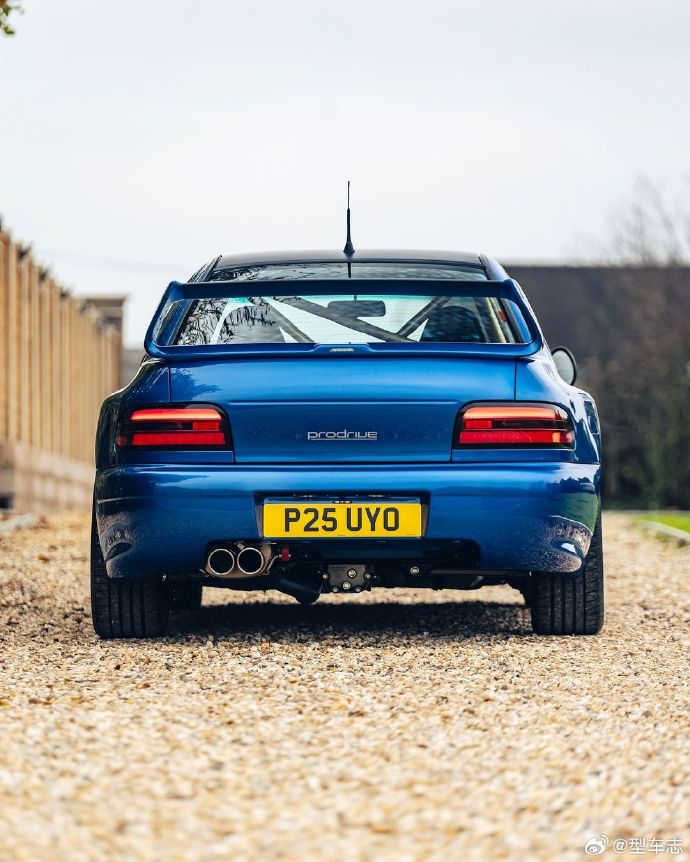other: (81, 236, 604, 641)
